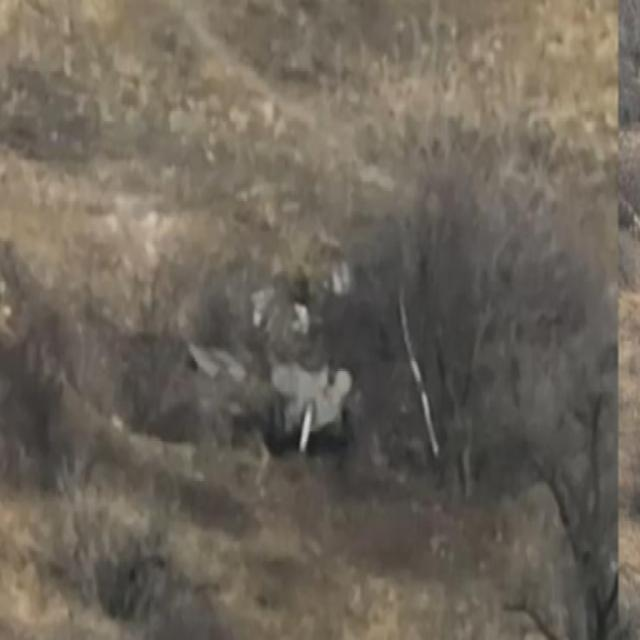ART: (261, 356, 360, 460)
